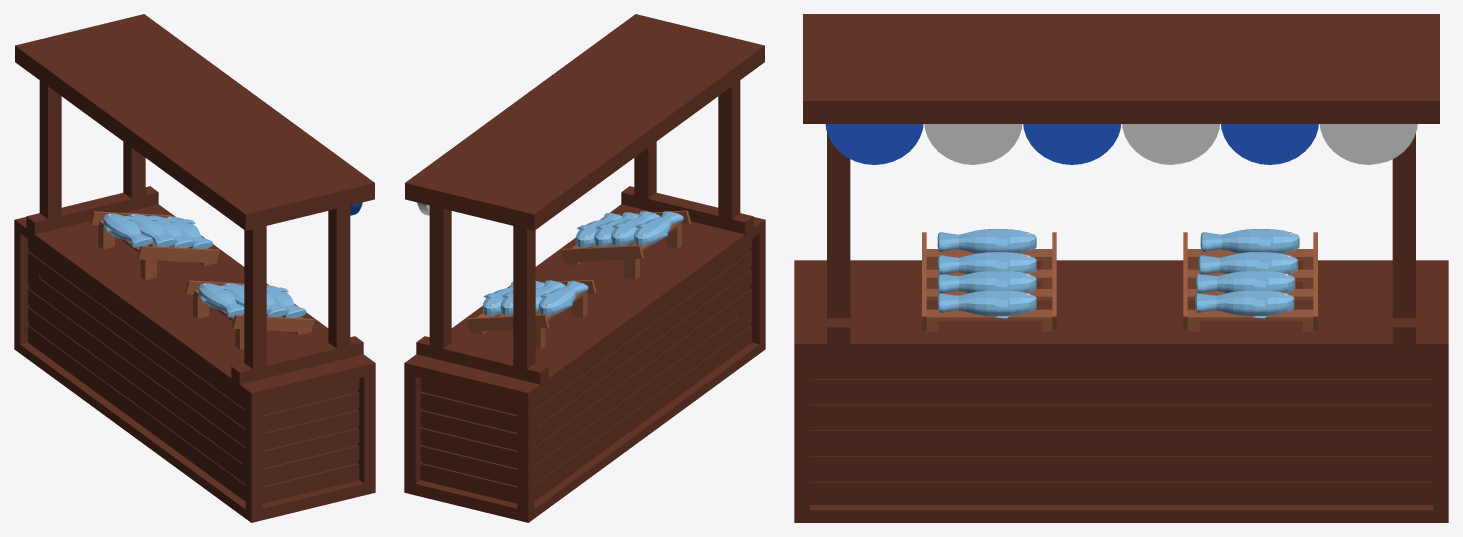
Rendered from etal_de_FISH(1).fbx.
3 views of the same model, side by side, from view 1: azimuth 30°, elevation 25°; view 2: azimuth 150°, elevation 25°; view 3: azimuth 270°, elevation 25° (orthographic). The views are drawn at different scales.
Visible parts, largest first — view 1: etal, truc_avec_des_trucs_dessus, truc_avec_des_trucs_dessus.001, FISH.007, FISH, FISH.006, FISH.004, FISH.003, FISH.005; view 2: etal, truc_avec_des_trucs_dessus.001, truc_avec_des_trucs_dessus, FISH, FISH.007, FISH.001, FISH.003, FISH.002, FISH.004; view 3: etal, truc_au_dessus, truc_avec_des_trucs_dessus.001, truc_avec_des_trucs_dessus, FISH.004, FISH.003, FISH, FISH.007, FISH.005, FISH.002, FISH.001, FISH.006.
Part boxes in pixels (left/top/right/bottom): etal: left=14, top=14, right=375, bottom=522; truc_avec_des_trucs_dessus: left=90, top=211, right=219, bottom=280; truc_avec_des_trucs_dessus.001: left=184, top=280, right=314, bottom=349; FISH.007: left=103, top=213, right=152, bottom=247; FISH: left=198, top=283, right=244, bottom=317; FISH.006: left=128, top=213, right=176, bottom=246; FISH.004: left=165, top=216, right=212, bottom=248; FISH.003: left=266, top=285, right=306, bottom=317; FISH.005: left=148, top=215, right=194, bottom=248; etal: left=404, top=14, right=765, bottom=522; truc_avec_des_trucs_dessus.001: left=561, top=210, right=690, bottom=279; truc_avec_des_trucs_dessus: left=466, top=279, right=596, bottom=349; FISH: left=634, top=211, right=683, bottom=245; FISH.007: left=539, top=281, right=588, bottom=315; FISH.001: left=611, top=211, right=660, bottom=245; FISH.003: left=576, top=213, right=621, bottom=247; FISH.002: left=594, top=212, right=638, bottom=246; FISH.004: left=482, top=281, right=513, bottom=315; etal: left=794, top=14, right=1448, bottom=522; truc_au_dessus: left=825, top=124, right=1417, bottom=164; truc_avec_des_trucs_dessus.001: left=922, top=232, right=1056, bottom=331; truc_avec_des_trucs_dessus: left=1183, top=232, right=1317, bottom=331; FISH.004: left=1195, top=290, right=1294, bottom=318; FISH.003: left=937, top=290, right=1036, bottom=318; FISH: left=937, top=229, right=1036, bottom=253; FISH.007: left=1200, top=229, right=1299, bottom=253; FISH.005: left=1196, top=271, right=1295, bottom=293; FISH.002: left=937, top=271, right=1036, bottom=293; FISH.001: left=937, top=252, right=1036, bottom=274; FISH.006: left=1198, top=252, right=1297, bottom=274.
Bounding box in the file's own units: 209 × 473 × 662.
